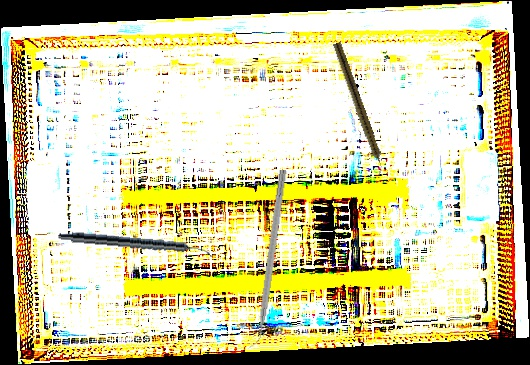Chopper: (243, 168, 288, 350)
Handpiece: (330, 41, 388, 176), (57, 230, 214, 258)
